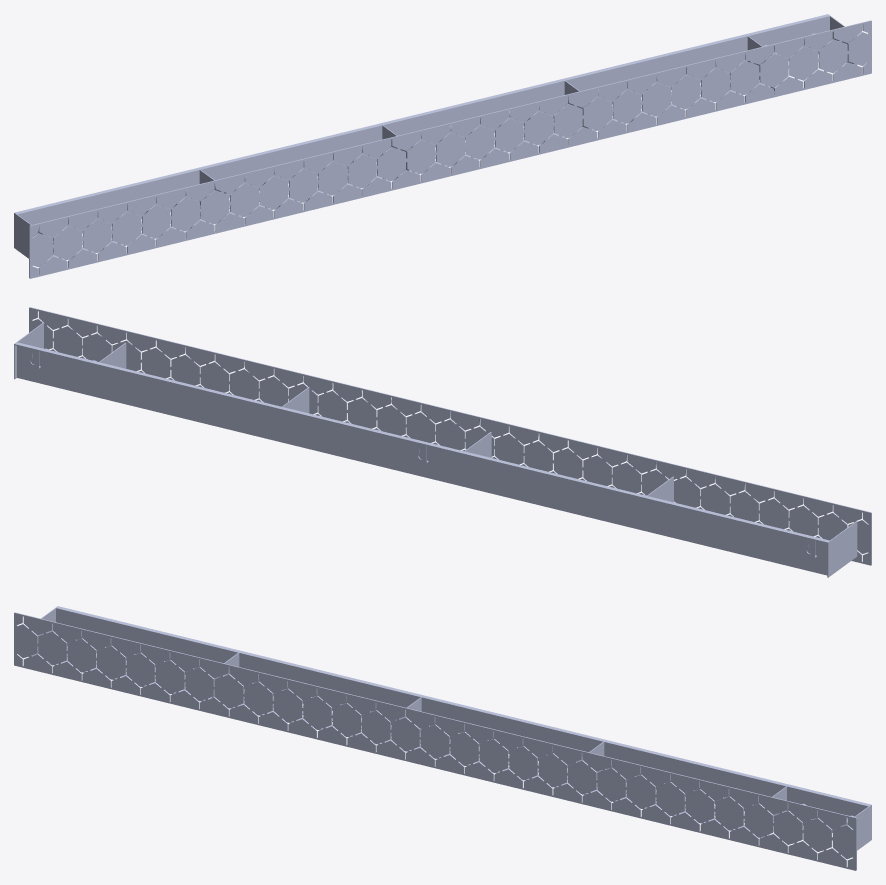
File: bee-patron.ce6eb21463.glb
3 renders of one model, top to bottom at view 1: azimuth 30°, elevation 25°; view 2: azimuth 150°, elevation 25°; view 3: azimuth 330°, elevation 25°, orthographic.
Visible parts, largest first — view 1: NAUO1; view 2: NAUO1; view 3: NAUO1.
Boxes of the visible parts, x1=… form: NAUO1: x1=14, y1=14, x2=871, y2=278; NAUO1: x1=14, y1=307, x2=871, y2=577; NAUO1: x1=14, y1=606, x2=871, y2=870.
Size of the model in its own units: 1.5 by 0.0899 by 0.0919.
